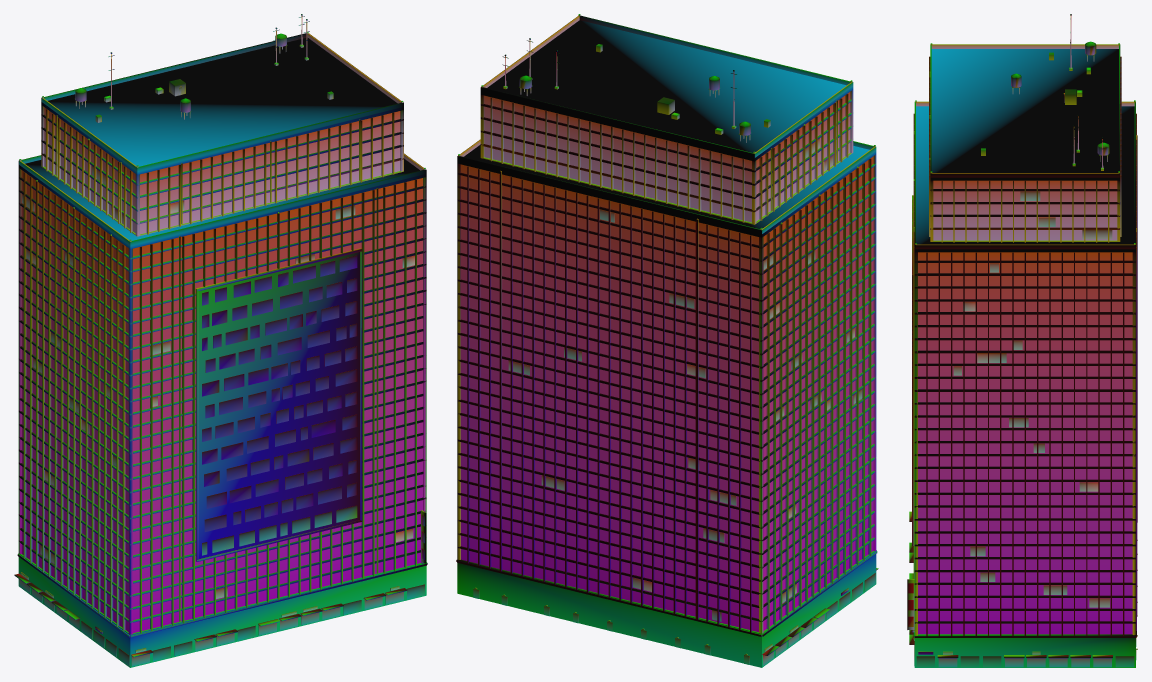
Rendered from Tower_Monolith.fbx.
3 views of the same model, side by side, from view 1: azimuth 30°, elevation 25°; view 2: azimuth 150°, elevation 25°; view 3: azimuth 270°, elevation 25° (orthographic). The views are drawn at different scales.
Parts seen in each view (by area): view 1: Tower_Monolith_LOD0; view 2: Tower_Monolith_LOD0; view 3: Tower_Monolith_LOD0.
Boxes of the visible parts, bbox=[...] form: Tower_Monolith_LOD0: bbox=[14, 14, 427, 667]; Tower_Monolith_LOD0: bbox=[456, 14, 878, 667]; Tower_Monolith_LOD0: bbox=[907, 14, 1137, 667].
Size of what is drawn, in the model's own units: 88.8 by 151 by 58.31.
